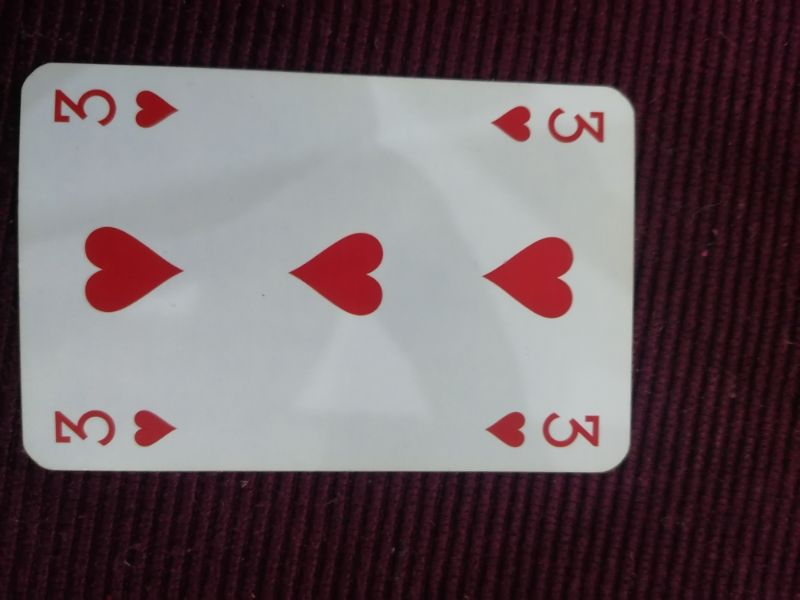3h: (49, 84, 183, 132), (487, 101, 611, 150), (49, 404, 181, 448), (483, 406, 604, 452)
